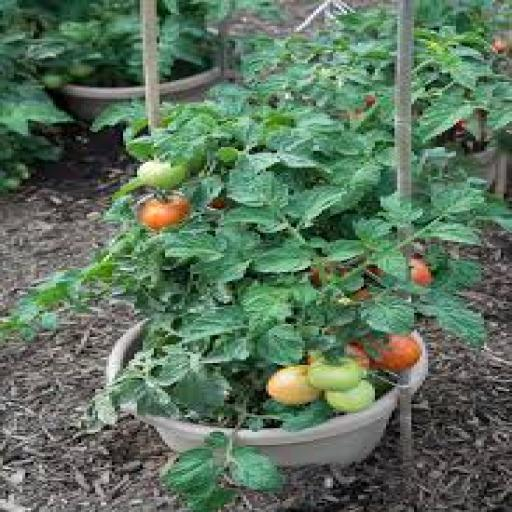tomato: (266, 365, 321, 405), (308, 358, 366, 390), (140, 194, 190, 230), (373, 336, 422, 372), (325, 380, 374, 413), (138, 161, 187, 189), (311, 263, 349, 288), (345, 343, 372, 370), (409, 257, 433, 286), (345, 343, 372, 368), (216, 148, 240, 165), (42, 73, 67, 89), (68, 64, 95, 78), (356, 287, 372, 301), (208, 198, 226, 210), (493, 40, 509, 53), (367, 265, 383, 277), (454, 120, 467, 132), (364, 95, 377, 107)
